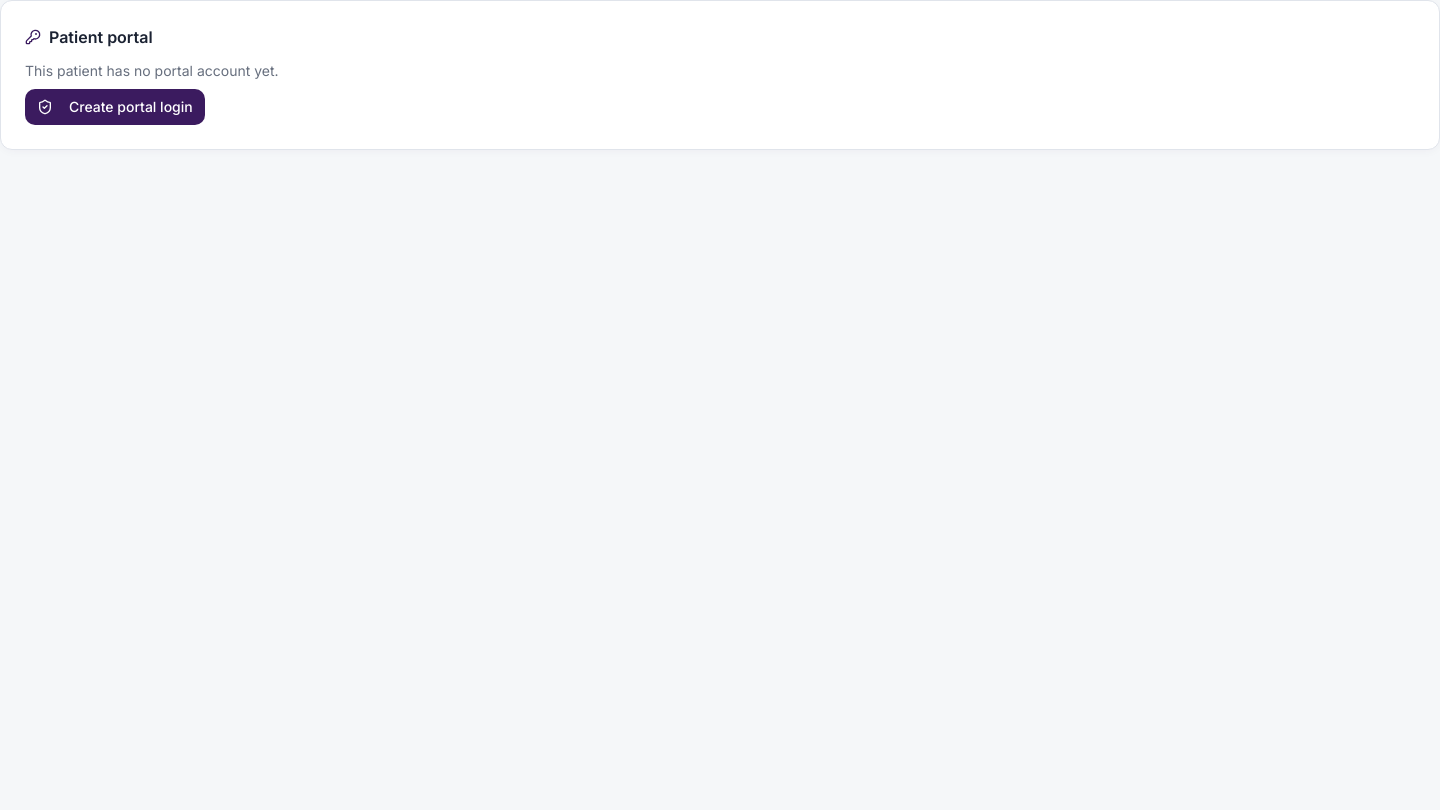
Scenario: clears temporary credentials immediately when the patient changes
Click the button "Create portal login". click: (115, 107)
box: [25, 89, 205, 125]
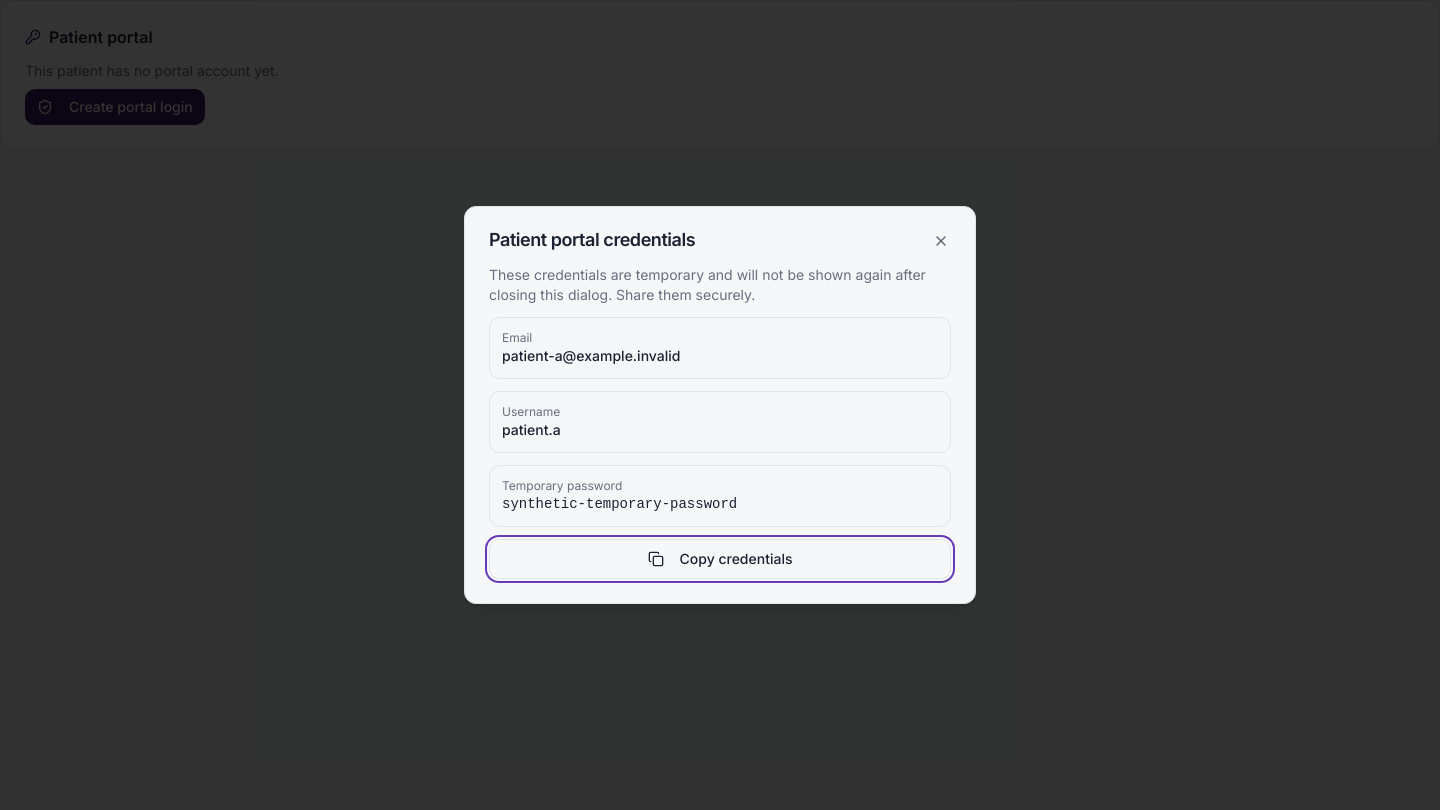
Check: the text "synthetic-temporary-password" is shown, box [502, 496, 737, 512]
